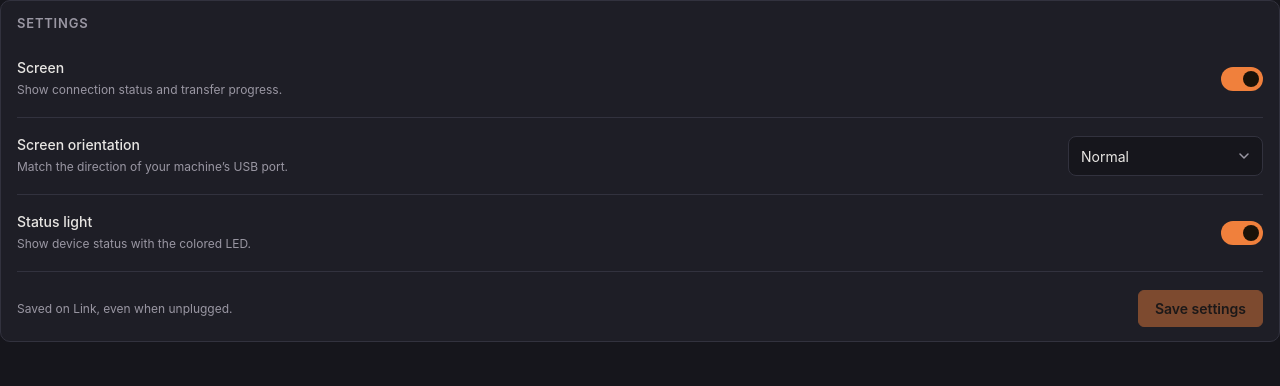
Test: first Screen orientation edit survives settings initialization
Select "Upside down (180°)" in the dropdown labelled "Screen orientation" at [1166, 156], box [1068,136,1263,176]
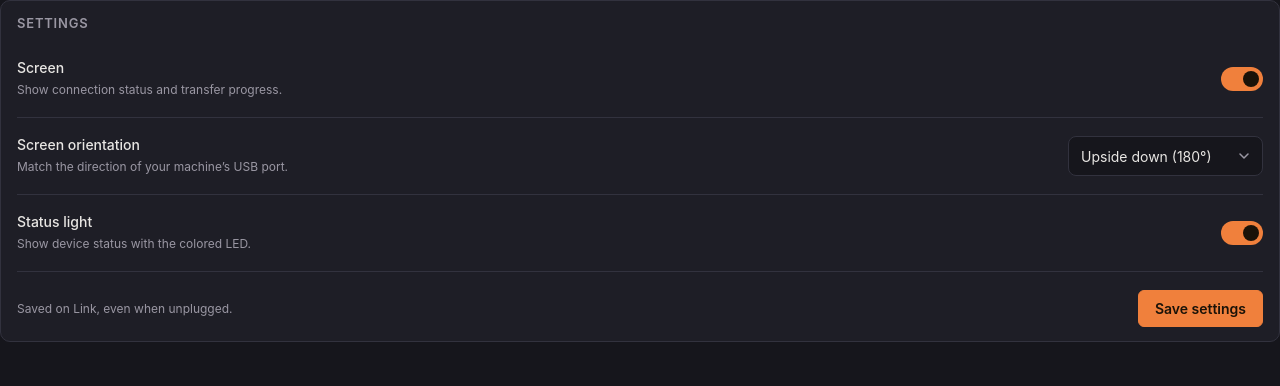
Result: the button "Save settings" is enabled
Click the button "Save settings".
click(1200, 308)  # box [1138,290,1263,327]
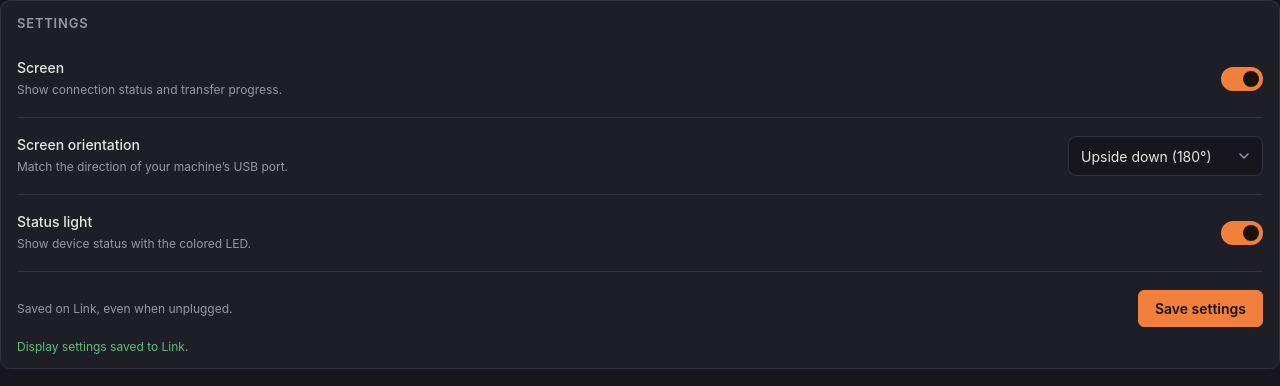
Result: the text "Display settings saved to Link." is shown at [17,339,188,354]
